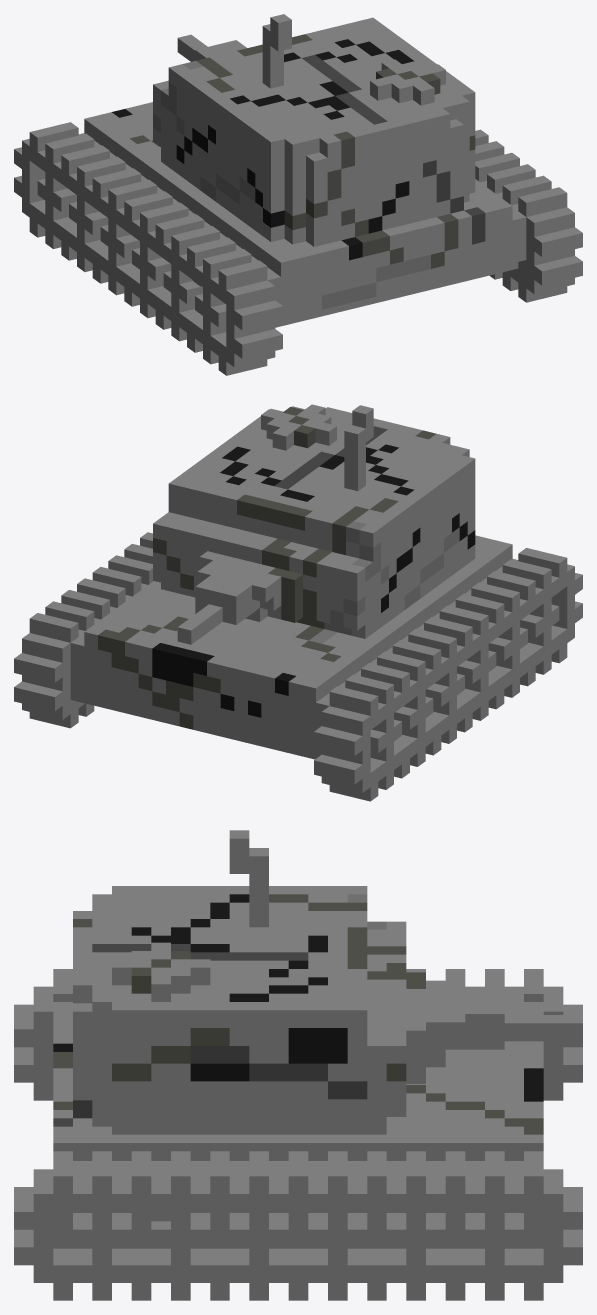
File: tank.glb
3 renders of one model, top to bottom at view 1: azimuth 30°, elevation 25°; view 2: azimuth 150°, elevation 25°; view 3: azimuth 270°, elevation 25°, orthographic. The views are drawn at different scales.
Visible parts, largest first — view 1: ligth_tank_colored_gray; view 2: ligth_tank_colored_gray; view 3: ligth_tank_colored_gray.
Part boxes in pixels (x1,y1,x2,y2): ligth_tank_colored_gray: (14,14,582,375); ligth_tank_colored_gray: (14,404,582,801); ligth_tank_colored_gray: (14,830,582,1300).
Bounding box in the file's own units: 2.5 × 1.9 × 2.9.
1 material, 1 textured.
